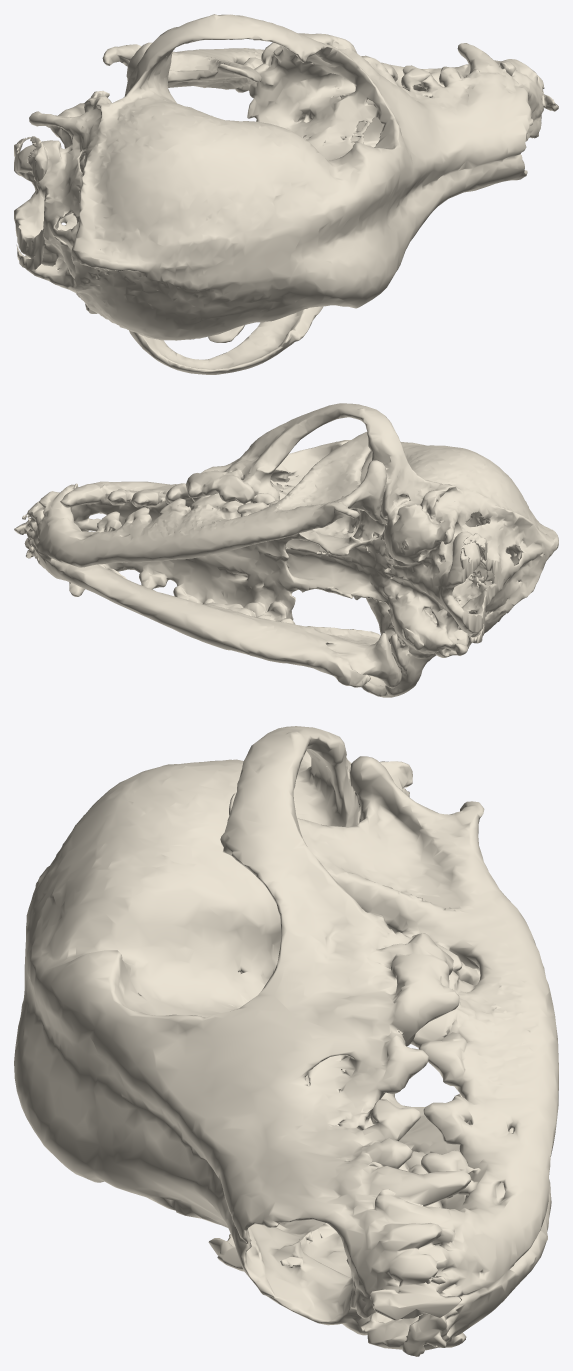
The model's file is canine-skull-nih282-detail-c7f152d71b0a.glb.
3 renders of one model, top to bottom at view 1: azimuth 30°, elevation 25°; view 2: azimuth 150°, elevation 25°; view 3: azimuth 270°, elevation 25°, orthographic. The views are drawn at different scales.
Visible parts, largest first — view 1: specimen; view 2: specimen; view 3: specimen.
Boxes of the visible parts, x1,y1,x2,y2 form: specimen: (14, 14, 558, 374); specimen: (14, 403, 558, 697); specimen: (14, 726, 558, 1356).
Bounding box in the file's own units: 2 × 1.19 × 1.12.
